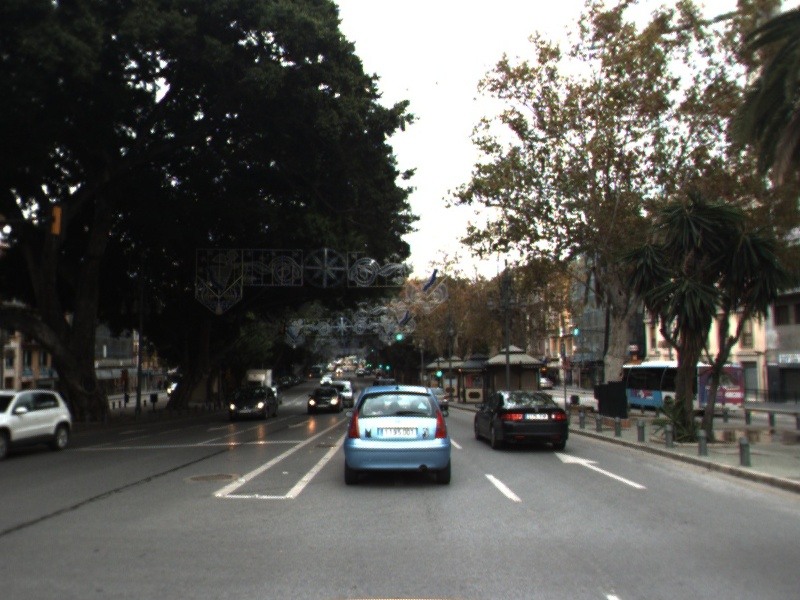STRAIGHT: (553, 450, 648, 490)
